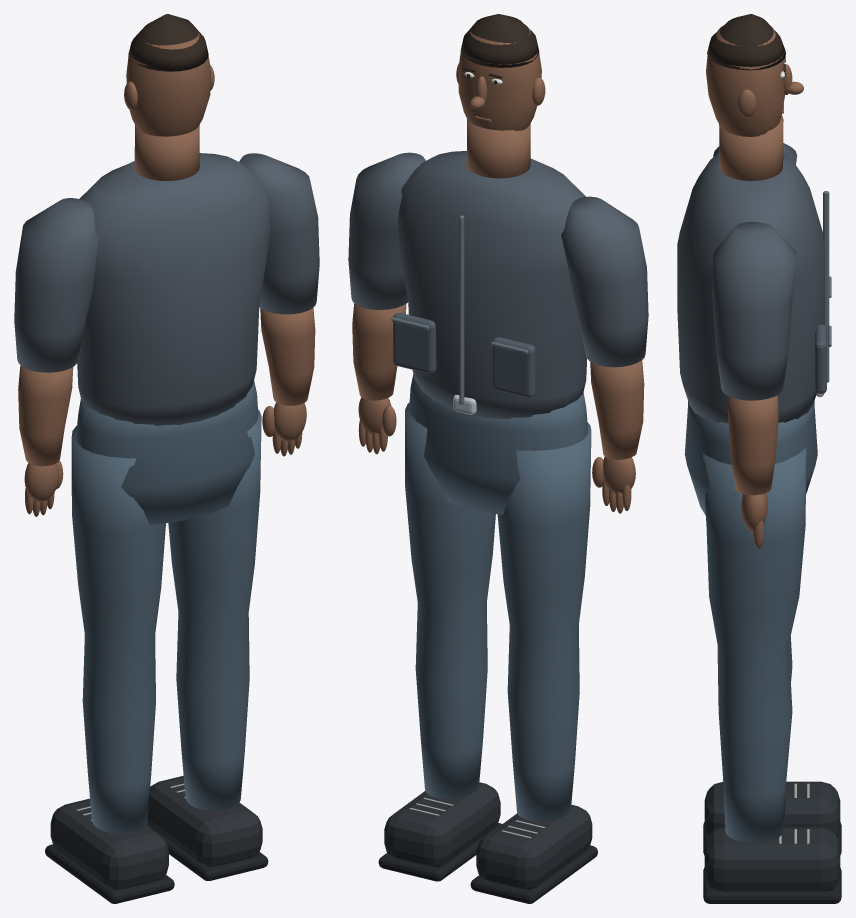
The model's file is Pedestrian_M.fbx.
The picture shows the model from 3 angles, left to right: view 1: azimuth 30°, elevation 25°; view 2: azimuth 150°, elevation 25°; view 3: azimuth 270°, elevation 25°; orthographic projection.
Parts seen in each view (by area): view 1: Body.016, Leg_L.001, Leg_R.001, Arm_L.001, Arm_R.001, Head.001; view 2: Body.016, Leg_L.001, Leg_R.001, Arm_L.001, Arm_R.001, Head.001; view 3: Leg_R.001, Body.016, Arm_R.001, Head.001, Leg_L.001.
Boxes of the visible parts, box(x1,y1,x2,y2) form: Body.016: box(76, 125, 270, 524); Leg_L.001: box(45, 425, 174, 903); Leg_R.001: box(146, 409, 268, 880); Arm_L.001: box(14, 198, 98, 516); Arm_R.001: box(239, 153, 319, 456); Head.001: box(124, 14, 214, 136); Body.016: box(391, 119, 587, 514); Leg_L.001: box(470, 422, 597, 903); Leg_R.001: box(378, 402, 501, 881); Arm_L.001: box(561, 196, 648, 513); Arm_R.001: box(348, 152, 425, 454); Head.001: box(456, 14, 545, 130); Leg_R.001: box(702, 448, 841, 903); Body.016: box(677, 115, 831, 514); Arm_R.001: box(712, 222, 796, 548); Head.001: box(706, 14, 803, 136); Leg_L.001: box(703, 636, 841, 855).
Bounding box in the file's own units: 0.644 × 1.78 × 0.311.
